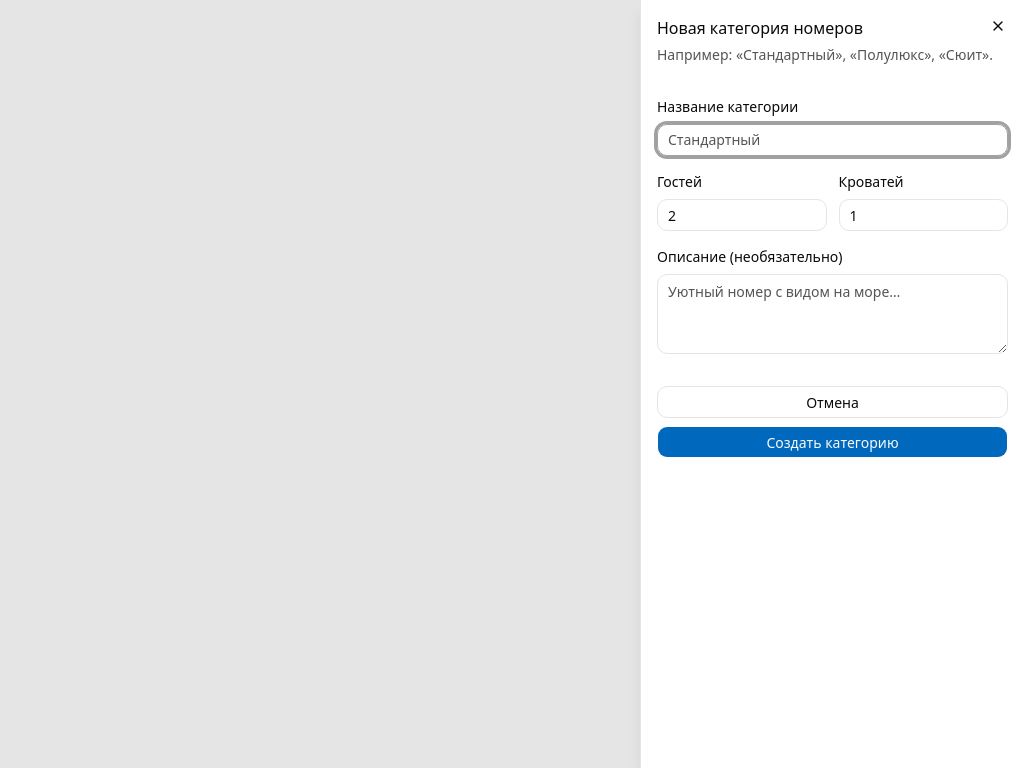
CategoryFormSheet — adversarial › [A1] mutation rejection → error banner с message; sheet stays open
Type "X" into the field labelled "Название категории" at (832, 140), box [657,124,1008,156]
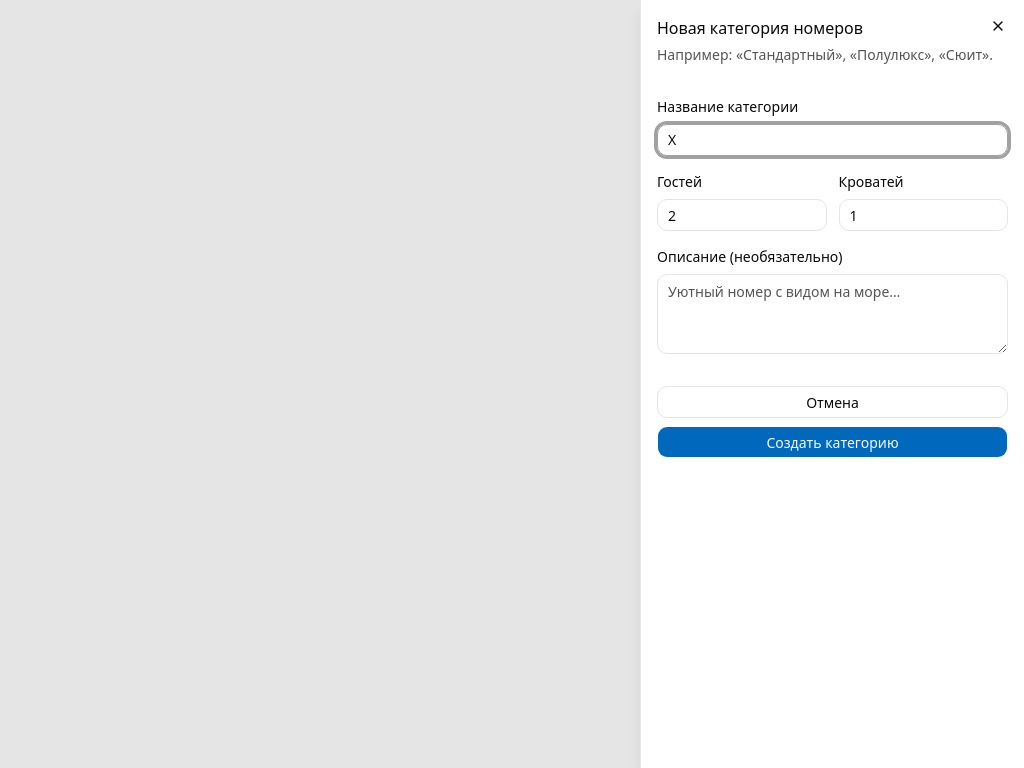
Click the button "Создать категорию" at (832, 442), box [657,426,1008,458]
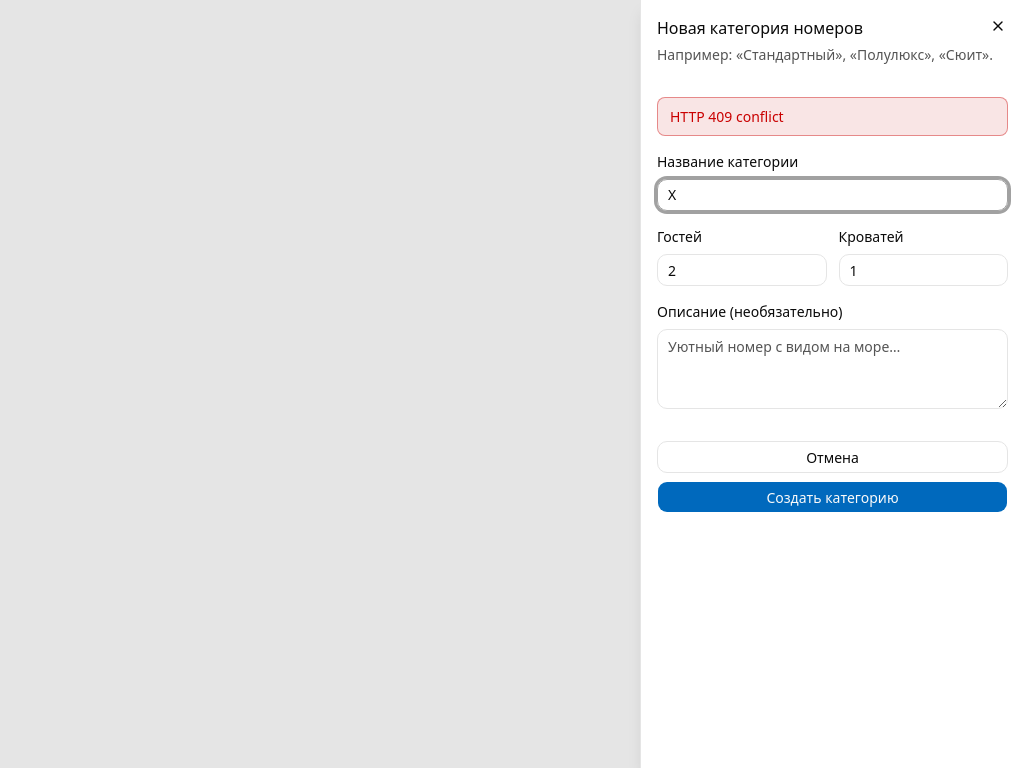
expect the message "HTTP 409 conflict" is shown: met, box [657,97,1008,136]
expect the message reads "HTTP 409 conflict": met, box [670,107,784,126]
